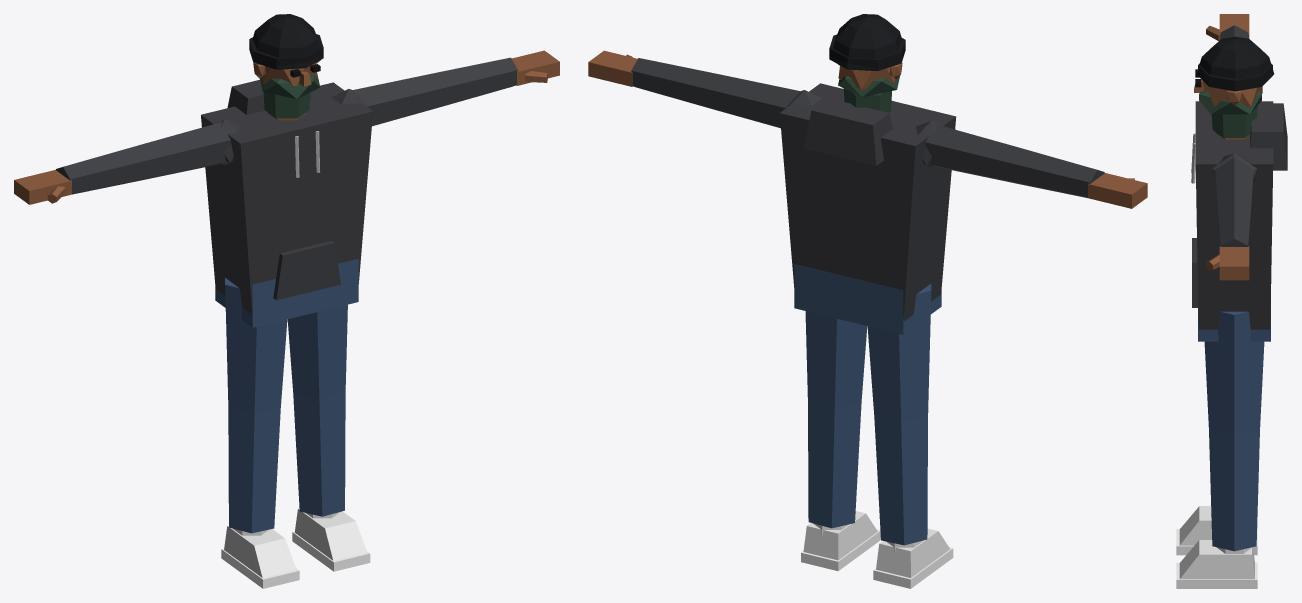
File: Gang_Hoodie.glb
The picture shows the model from 3 angles, left to right: view 1: azimuth 30°, elevation 25°; view 2: azimuth 150°, elevation 25°; view 3: azimuth 270°, elevation 25°; orthographic projection. The views are drawn at different scales.
Parts seen in each view (by area): view 1: Gang_Hoodie; view 2: Gang_Hoodie; view 3: Gang_Hoodie.
Boxes of the visible parts, x1,y1,x2,y2 form: Gang_Hoodie: (14,14,559,588); Gang_Hoodie: (588,14,1147,588); Gang_Hoodie: (1176,14,1287,588).
Size of the model in its own units: 1.8 by 1.74 by 0.335.
